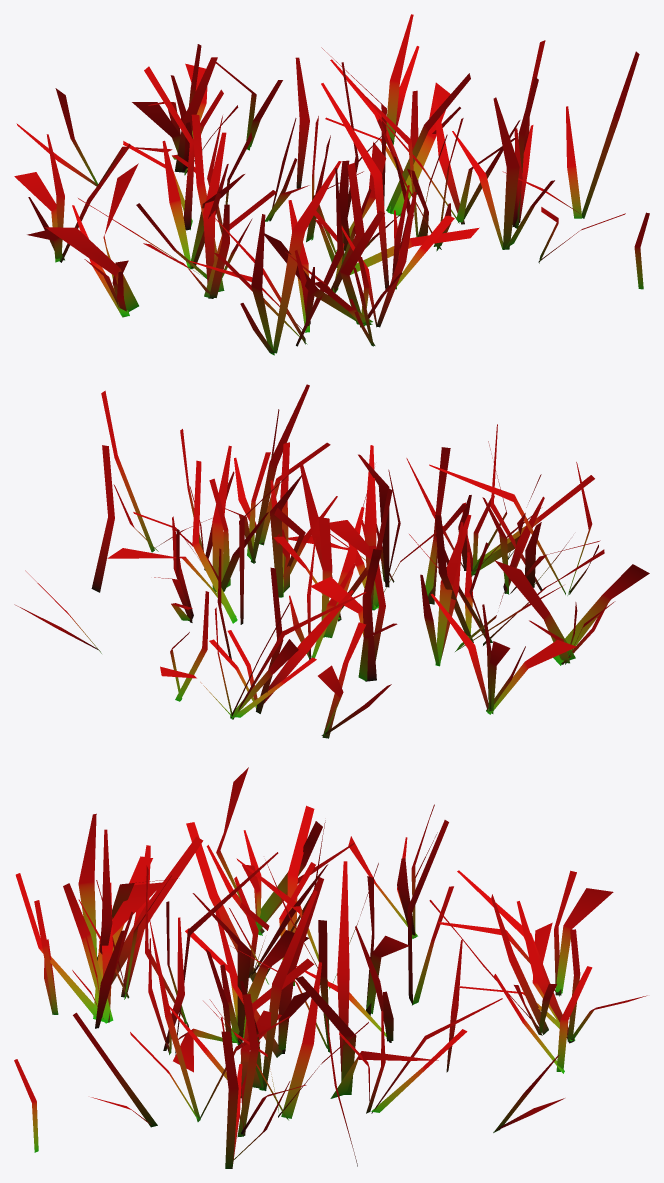
File: Grass Clumps_LOD1_Var2_qmBr2.fbx
The picture shows the model from 3 angles, top to bottom: view 1: azimuth 30°, elevation 25°; view 2: azimuth 150°, elevation 25°; view 3: azimuth 270°, elevation 25°; orthographic projection. The views are drawn at different scales.
Visible parts, largest first — view 1: _d1ba_Var2_LOD1; view 2: _d1ba_Var2_LOD1; view 3: _d1ba_Var2_LOD1.
Boxes of the visible parts, left/top/right/bottom form: _d1ba_Var2_LOD1: left=14, top=14, right=649, bottom=355; _d1ba_Var2_LOD1: left=14, top=384, right=649, bottom=738; _d1ba_Var2_LOD1: left=14, top=767, right=647, bottom=1168.
Size of the model in its own units: 75.28 by 22.81 by 65.68.
